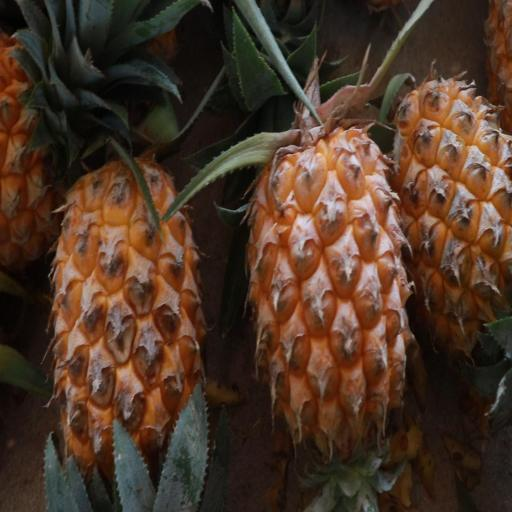Pineapple - v8 v1: (241, 111, 410, 511), (40, 122, 209, 512), (391, 61, 512, 376), (0, 0, 110, 272)
